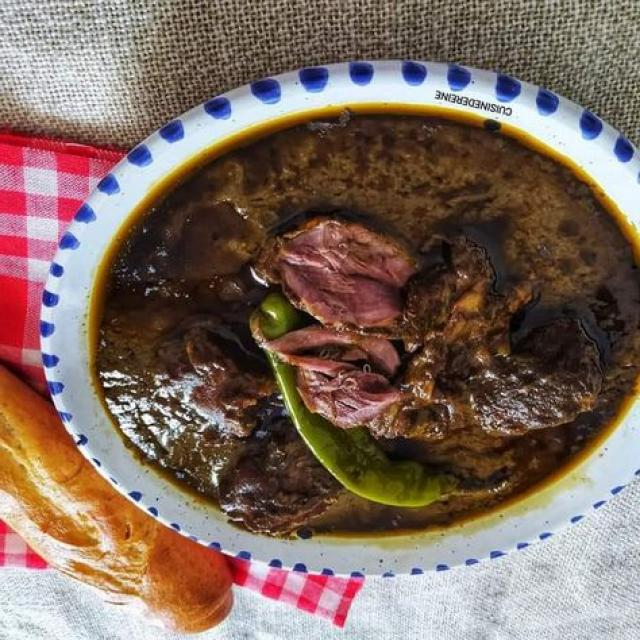Melloukhia: (99, 90, 640, 568)
